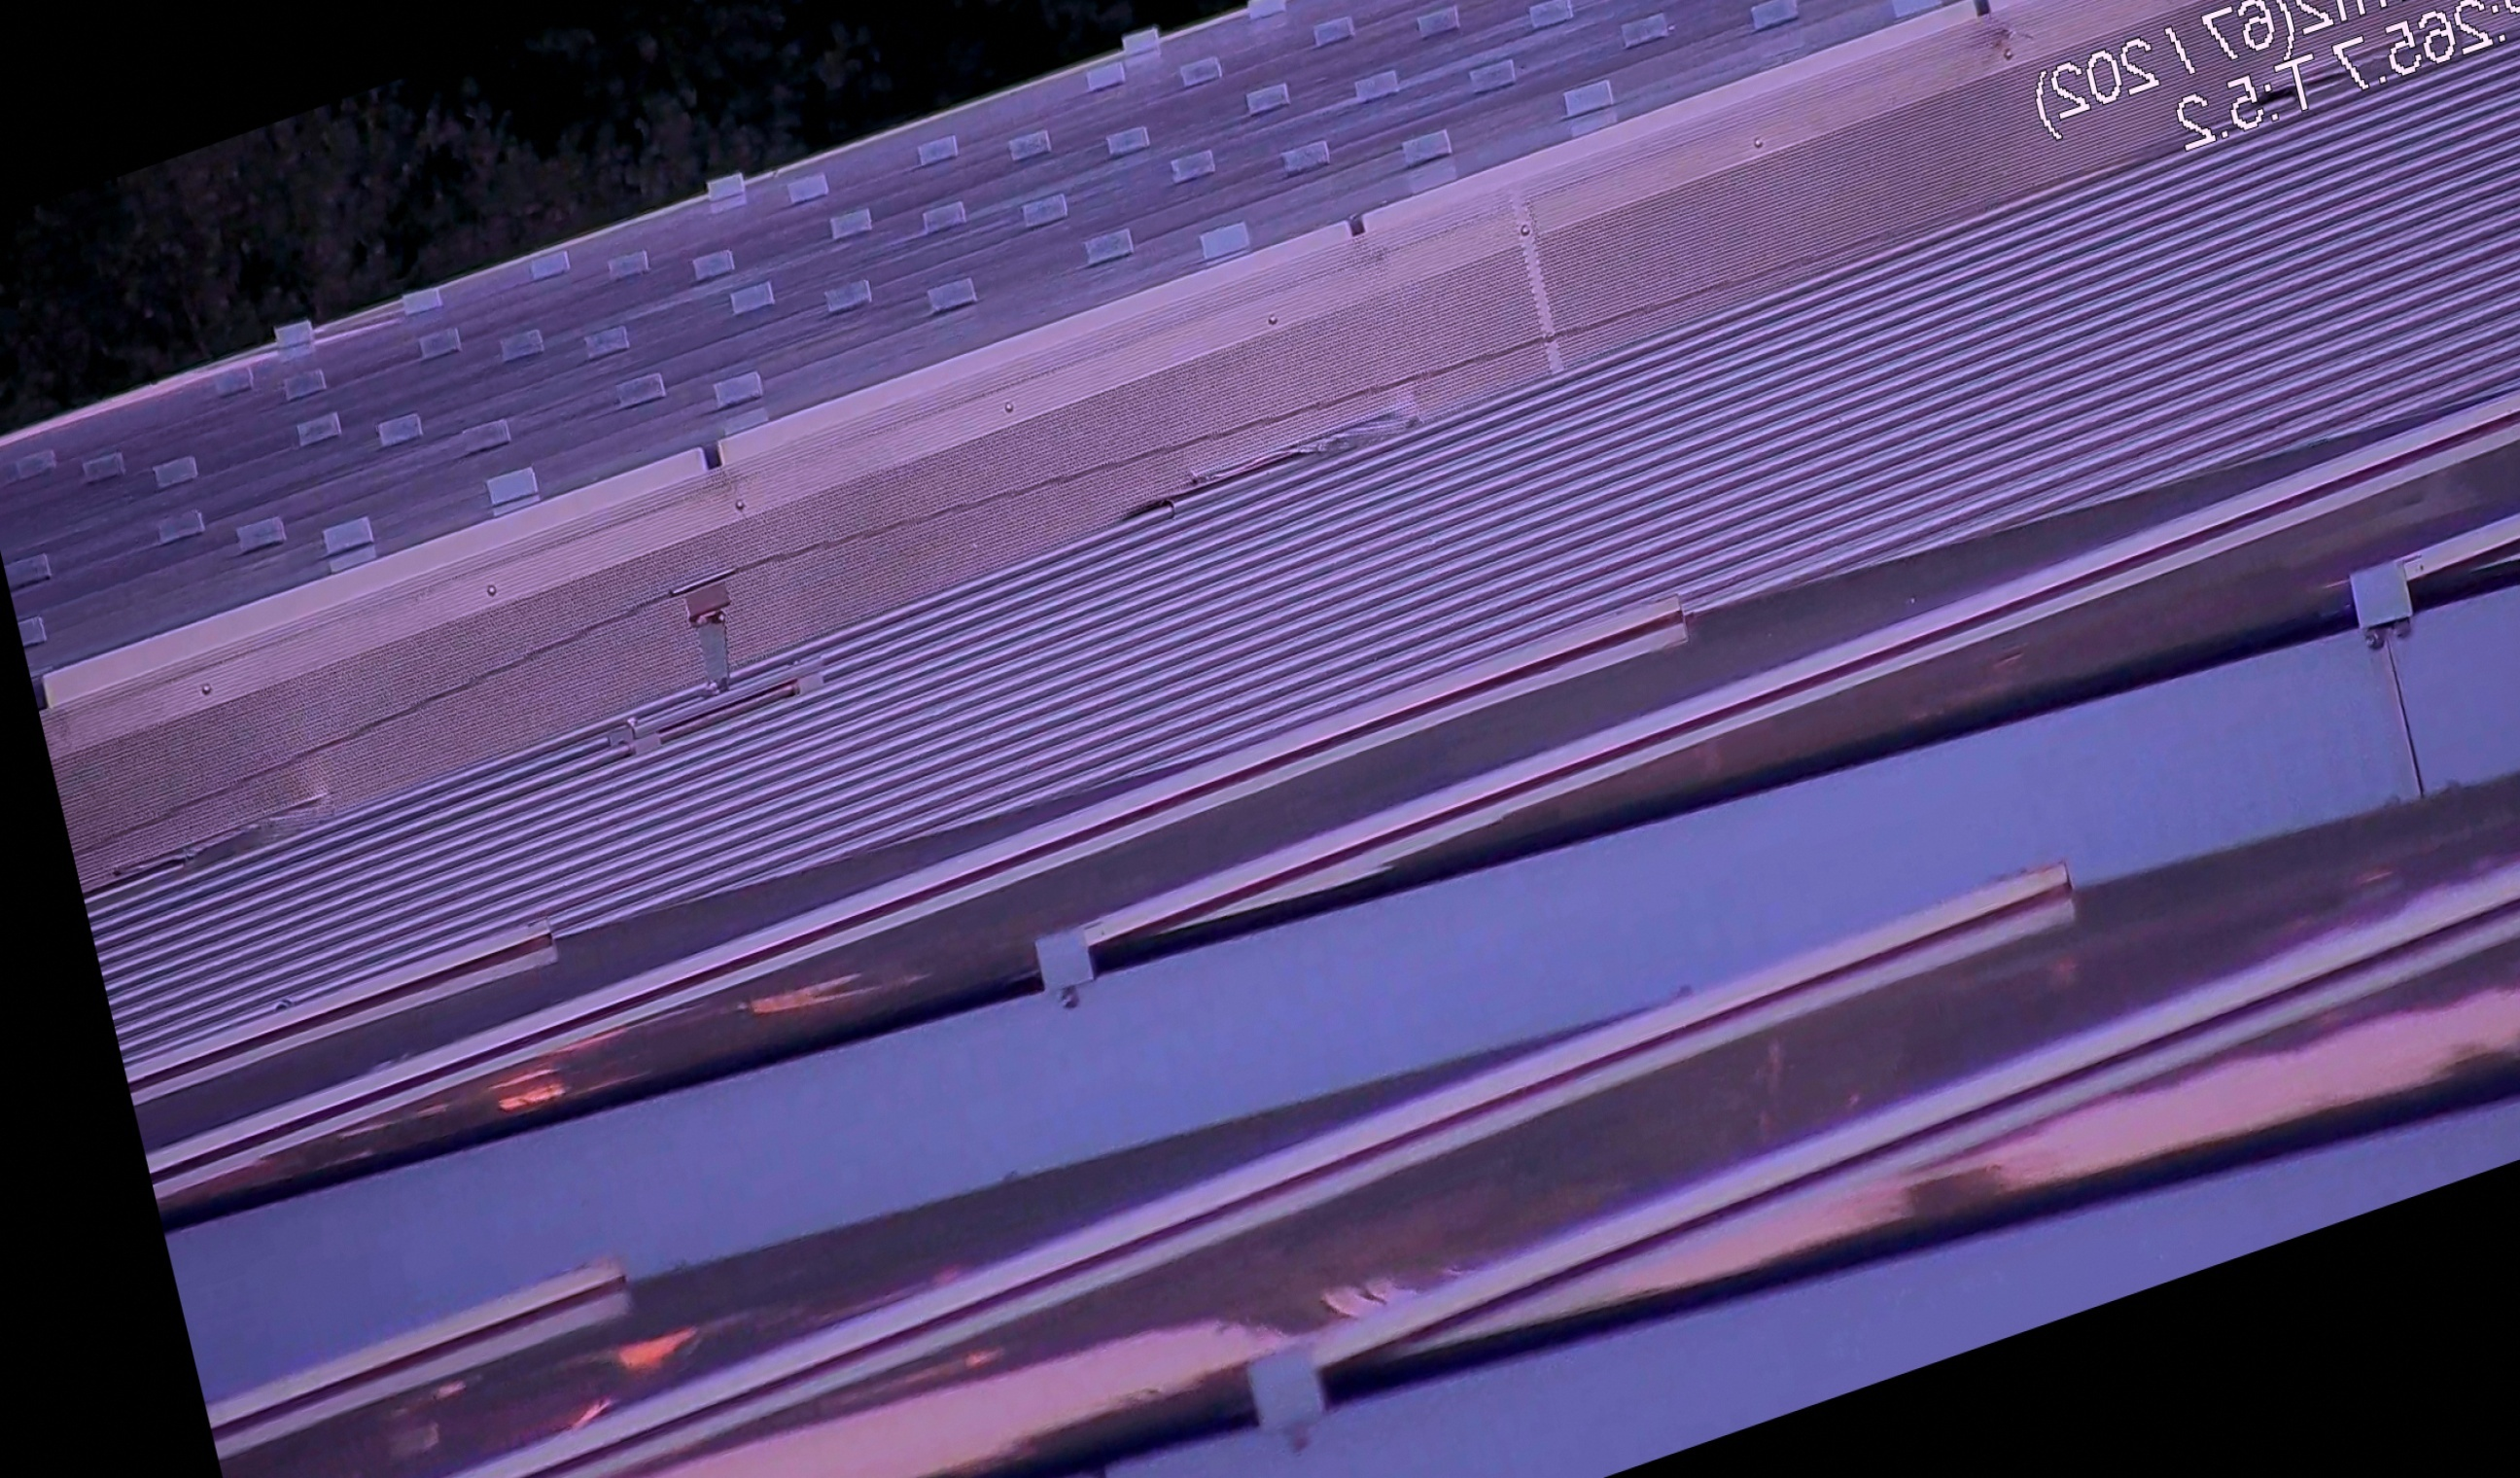Other: (652, 567, 746, 691)
